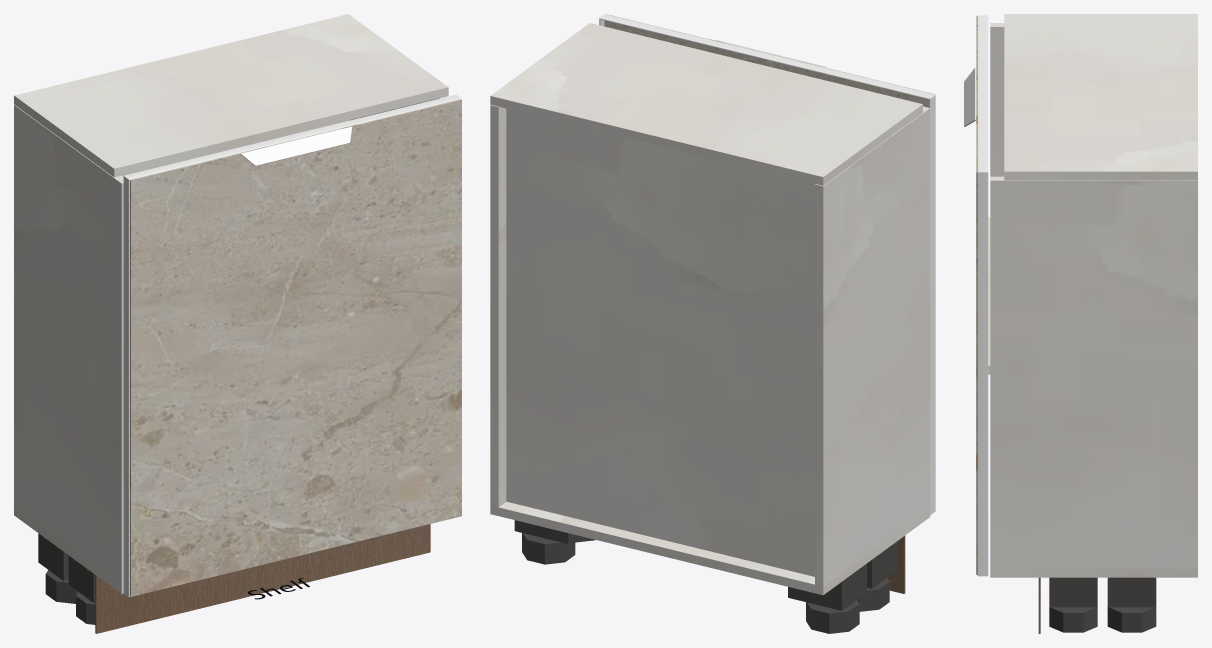
The model's file is BC1SHS_LH_EH (H720xW600xD336).glb.
3 views of the same model, side by side, from view 1: azimuth 30°, elevation 25°; view 2: azimuth 150°, elevation 25°; view 3: azimuth 270°, elevation 25° (orthographic). The views are drawn at different scales.
Size of what is drawn, in the model's own units: 0.6 by 0.82 by 0.3759.
6 materials, 3 textured.
